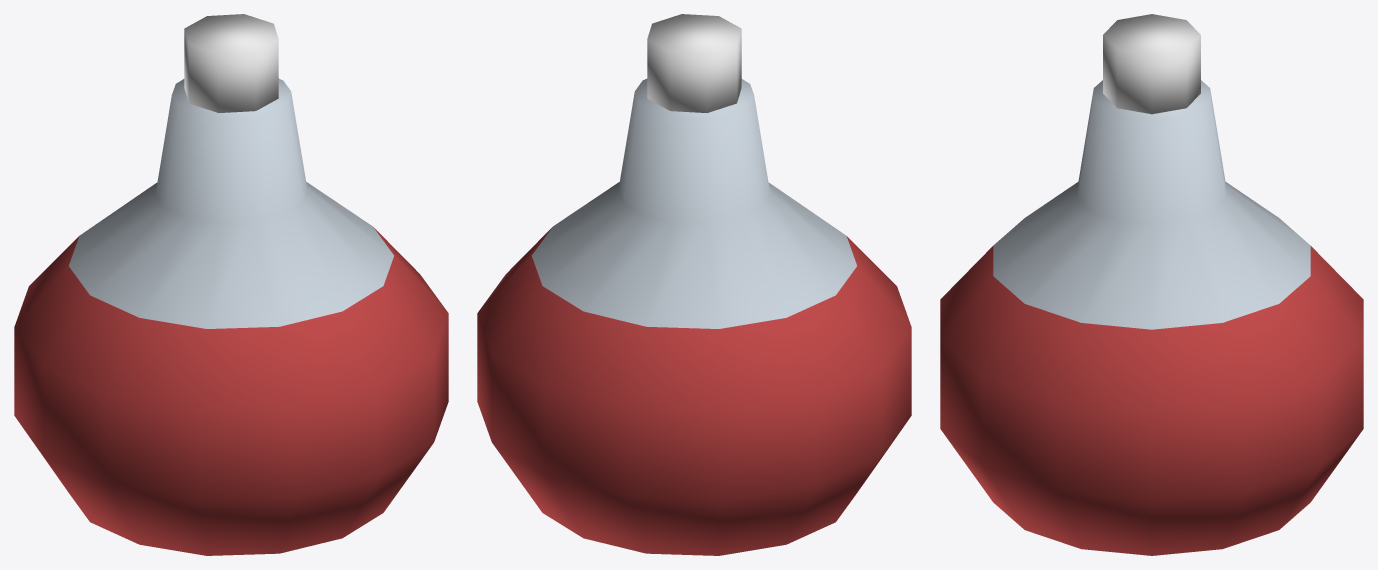
Rendered from vicious_powder.glb.
3 views of the same model, side by side, from view 1: azimuth 30°, elevation 25°; view 2: azimuth 150°, elevation 25°; view 3: azimuth 270°, elevation 25° (orthographic).
Parts seen in each view (by area): view 1: vicious_powder_v0; view 2: vicious_powder_v0; view 3: vicious_powder_v0.
Boxes of the visible parts, <box> form: vicious_powder_v0: <box>14,14,448,555</box>; vicious_powder_v0: <box>477,14,911,555</box>; vicious_powder_v0: <box>940,14,1363,555</box>.
Bounding box in the file's own units: 0.24 × 0.276 × 0.234.
